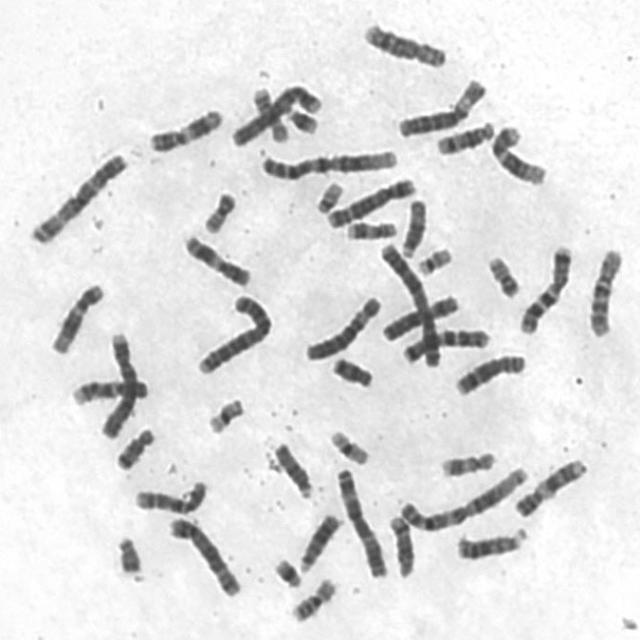A1: (392, 459, 531, 533), (254, 141, 400, 182)
A2: (374, 235, 446, 370), (191, 288, 275, 377)
A3: (23, 145, 130, 246), (330, 460, 389, 579)
B4: (225, 76, 324, 148), (95, 326, 139, 440)
B5: (161, 509, 244, 598), (322, 170, 419, 230)
C10: (581, 240, 626, 340), (127, 473, 211, 516)
C11: (176, 227, 254, 288), (142, 102, 225, 154)
C12: (45, 276, 106, 356), (484, 118, 549, 187)
C6: (392, 72, 489, 140), (300, 289, 383, 363)
C7: (513, 238, 575, 336), (396, 322, 493, 366)
C8: (358, 15, 450, 70), (449, 347, 529, 398)
C9: (508, 452, 589, 519), (65, 370, 152, 408)
D13: (293, 506, 343, 574), (450, 521, 529, 562)
D14: (430, 114, 498, 157), (383, 508, 416, 580)
D15: (267, 436, 316, 500), (394, 192, 428, 260)
E16: (286, 571, 338, 624), (247, 80, 290, 144)
E17: (434, 444, 499, 479), (340, 214, 400, 241)
E18: (110, 420, 157, 471), (326, 350, 376, 390)
F19: (322, 422, 372, 467), (201, 390, 247, 436)
F20: (197, 184, 239, 235), (481, 248, 522, 300)
G21: (268, 551, 304, 589), (280, 101, 320, 135)
G22: (411, 240, 454, 277), (310, 175, 345, 215)
X: (375, 287, 461, 344)
Y: (110, 528, 144, 577)
